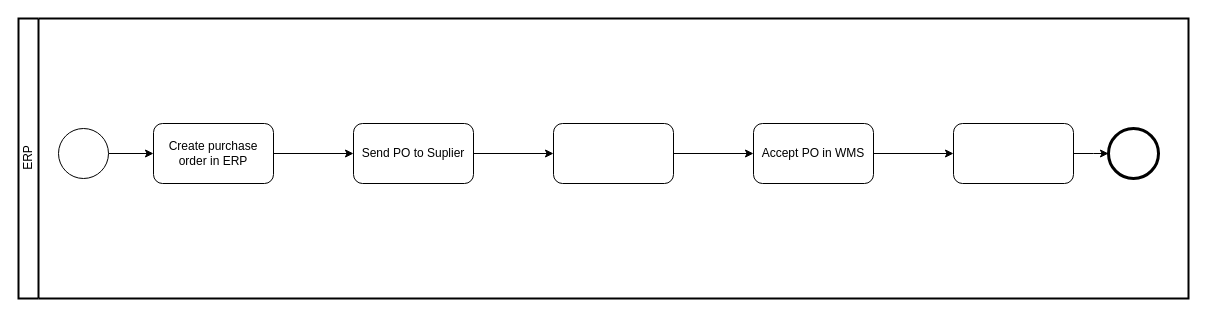
This 1206x316 diagram has some shape labels left out. The shapes that lost their labels are listed below. From the top down, each one's centre as x and y in pixels, then its label:
At point 613,153: "Send PO in WMS".
At point 1013,153: "Get acceptance fact from WMS".
